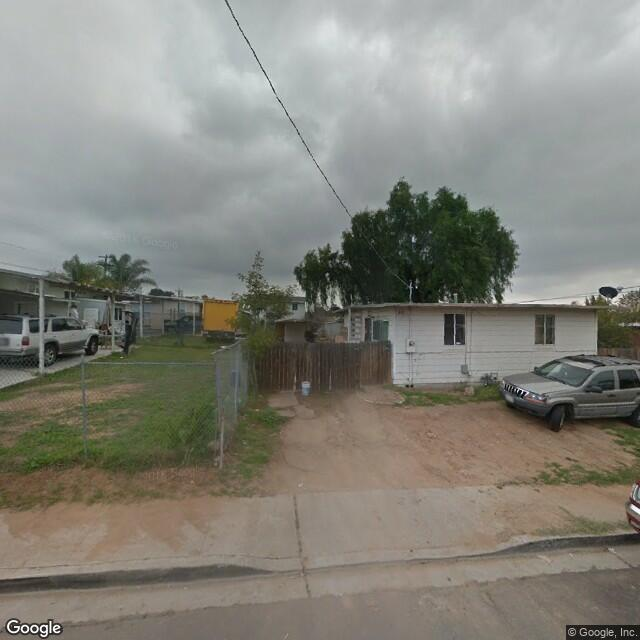litter: (602, 543, 613, 552)
